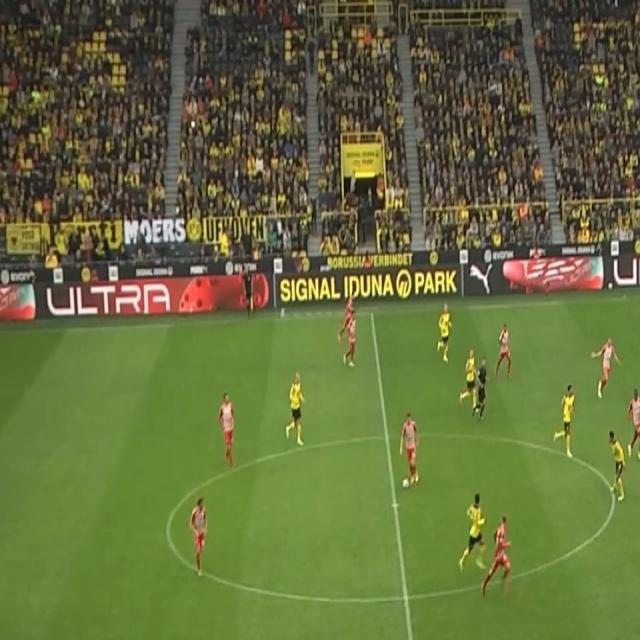ball: (402, 476, 410, 490)
